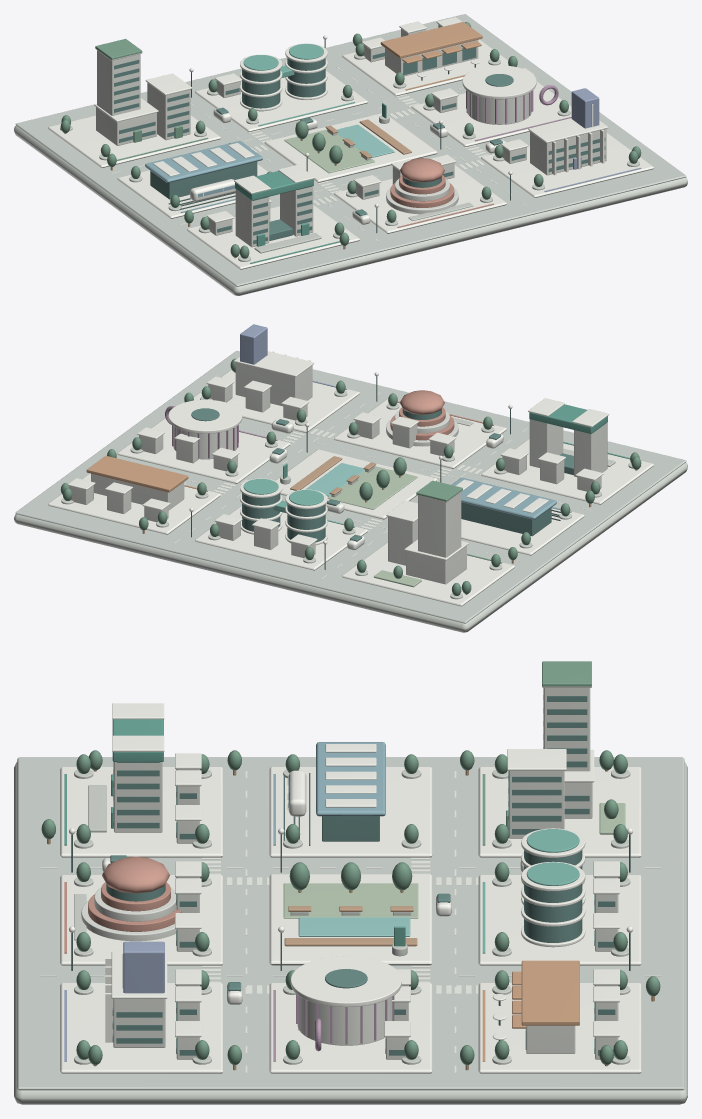
Rendered from blockmap-city.glb.
3 renders of one model, top to bottom at view 1: azimuth 30°, elevation 25°; view 2: azimuth 150°, elevation 25°; view 3: azimuth 270°, elevation 25°, orthographic. The views are drawn at different scales.
Visible parts, largest first — view 1: Atlas / street level, Atlas / floating foundation, identity / pedestrian platform, swap / pedestrian platform, Central garden / pavement, earn / pedestrian platform, start / pedestrian platform, join / pedestrian platform, collect / pedestrian platform, pay / pedestrian platform, Finance / tall volume / body, Market / terracotta roof (+30 smaller); view 2: Atlas / street level, Atlas / floating foundation, earn / pedestrian platform, collect / pedestrian platform, join / pedestrian platform, start / pedestrian platform, swap / pedestrian platform, pay / pedestrian platform, Central garden / pavement, Finance / tall volume / body, identity / pedestrian platform, transit / pedestrian platform (+26 smaller); view 3: Atlas / street level, Atlas / floating foundation, identity / pedestrian platform, transit / pedestrian platform, start / pedestrian platform, pay / pedestrian platform, swap / pedestrian platform, collect / pedestrian platform, earn / pedestrian platform, Central garden / pavement, join / pedestrian platform, Museum / floating roof (+31 smaller).
Boxes of the visible parts, x1,y1,x2,y2 form: Atlas / street level: (15, 14, 686, 286); Atlas / floating foundation: (14, 126, 687, 295); identity / pedestrian platform: (481, 133, 653, 197); swap / pedestrian platform: (195, 70, 367, 131); Central garden / pavement: (264, 113, 437, 182); earn / pedestrian platform: (48, 115, 220, 167); start / pedestrian platform: (187, 205, 359, 269); join / pedestrian platform: (334, 165, 506, 233); collect / pedestrian platform: (411, 81, 571, 146); pay / pedestrian platform: (342, 39, 508, 96); Finance / tall volume / body: (97, 50, 140, 115); Market / terracotta roof: (380, 22, 482, 58); Atlas / street level: (15, 350, 686, 623); Atlas / floating foundation: (14, 462, 687, 632); earn / pedestrian platform: (342, 542, 514, 606); collect / pedestrian platform: (117, 418, 290, 483); join / pedestrian platform: (334, 399, 506, 468); start / pedestrian platform: (481, 438, 653, 504); swap / pedestrian platform: (195, 505, 367, 570); pay / pedestrian platform: (48, 473, 220, 534); Central garden / pavement: (275, 449, 437, 519); Finance / tall volume / body: (418, 492, 461, 557); identity / pedestrian platform: (193, 369, 359, 432); transit / pedestrian platform: (461, 508, 584, 555); Atlas / street level: (17, 757, 684, 1090); Atlas / floating foundation: (14, 762, 687, 1104); identity / pedestrian platform: (60, 983, 223, 1073); transit / pedestrian platform: (269, 767, 432, 857); start / pedestrian platform: (60, 767, 223, 857); pay / pedestrian platform: (478, 983, 641, 1073); swap / pedestrian platform: (478, 875, 641, 965); collect / pedestrian platform: (269, 983, 432, 1073); earn / pedestrian platform: (478, 767, 641, 857); Central garden / pavement: (269, 874, 432, 965); join / pedestrian platform: (60, 875, 223, 965); Museum / floating roof: (290, 956, 401, 1007).
Size of what is drawn, in the model's own units: 34 by 7.15 by 29.
